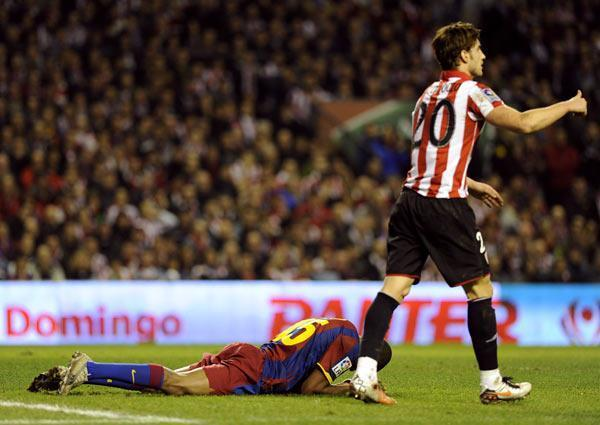Fall-Detected: (33, 298, 384, 403)
